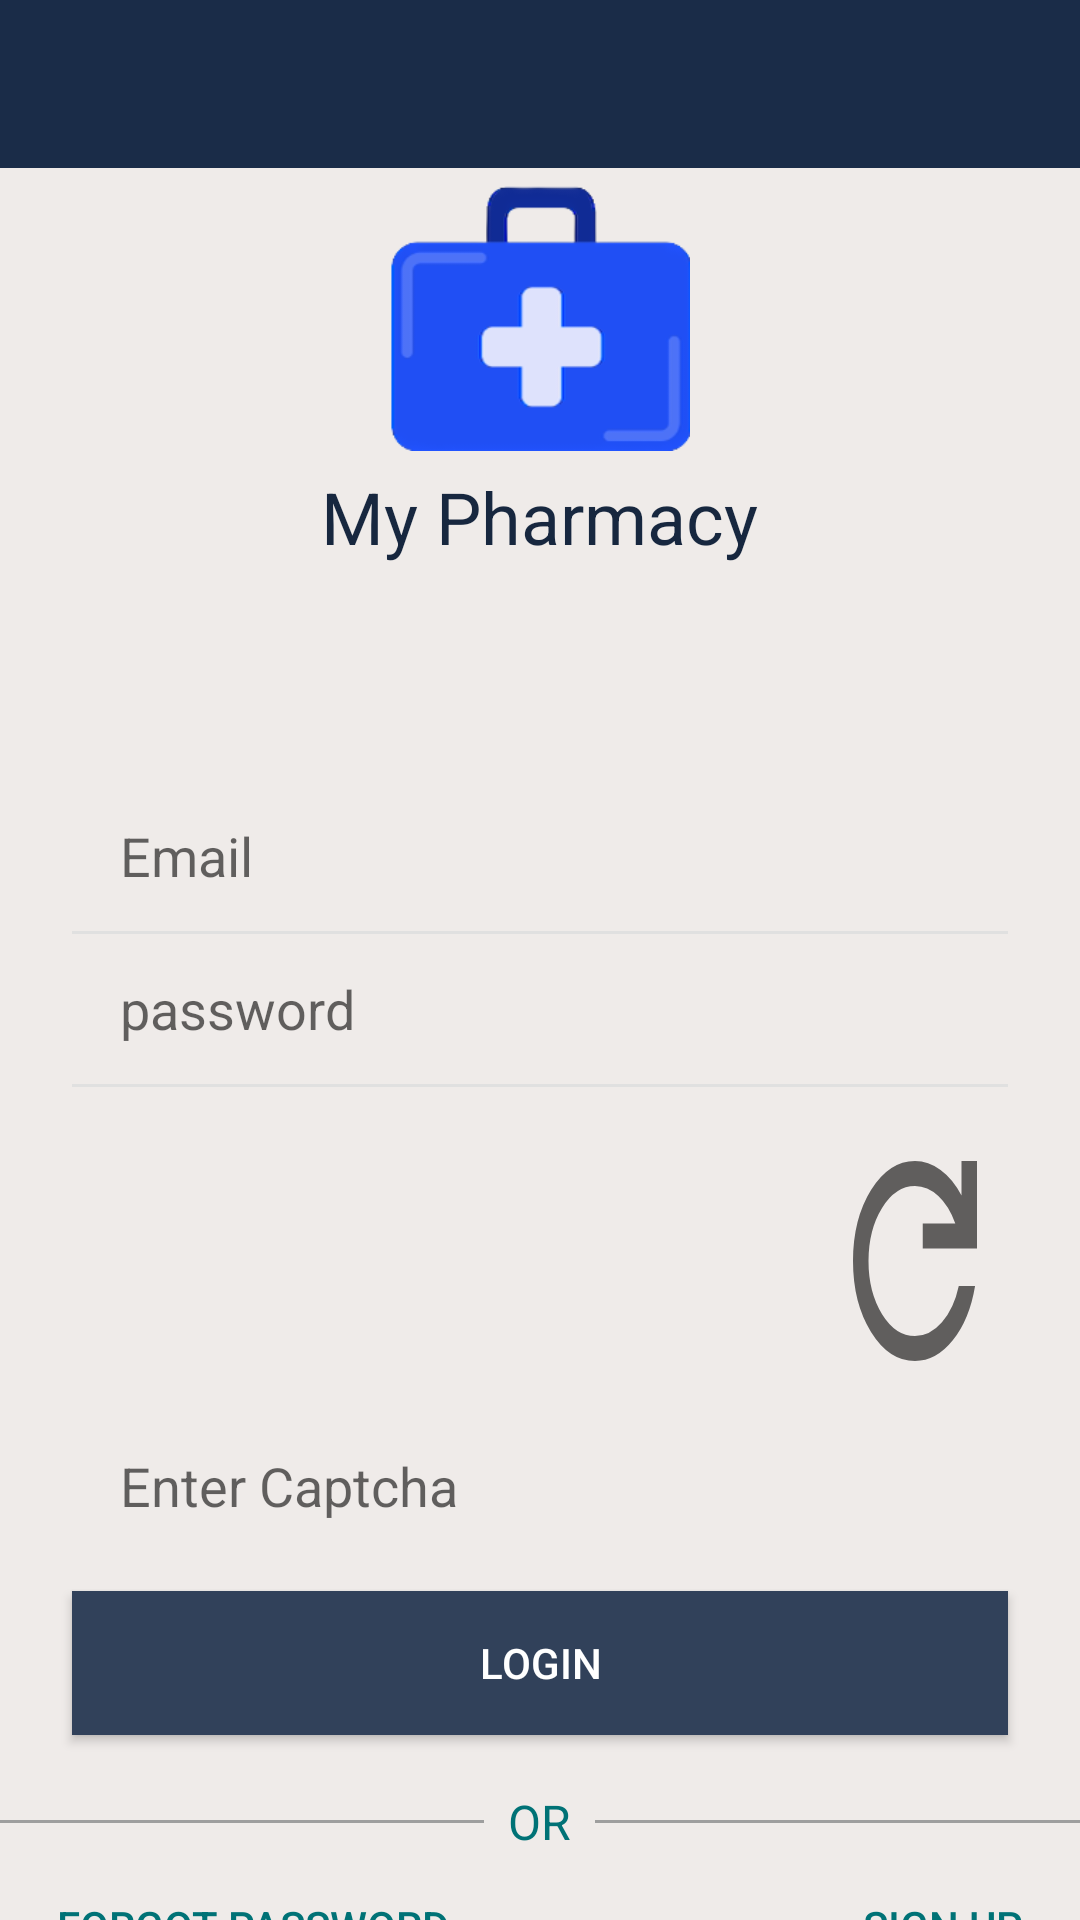

Screen size 1080w x 1920h. Icon name, then its center in pixels as point (x, y):
referesh draw: point (915, 1261)
